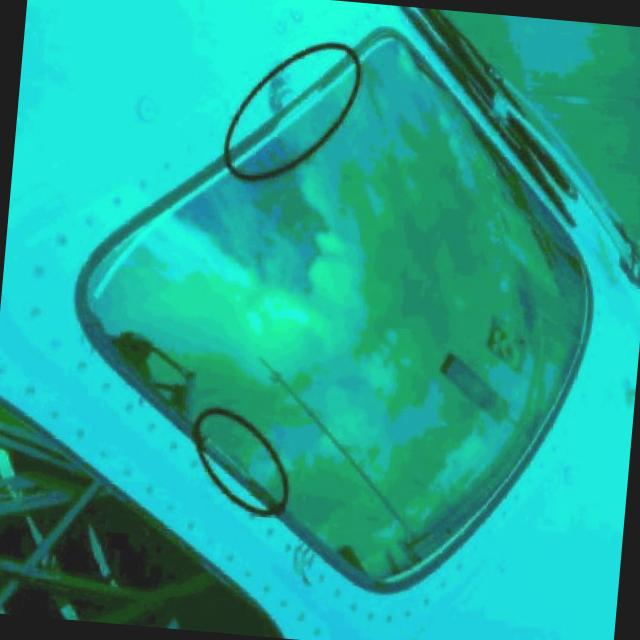crack: (290, 538, 317, 588)
